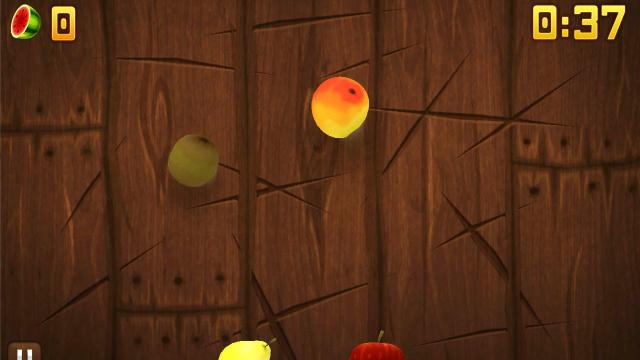fruit: (310, 76, 370, 138), (167, 133, 219, 187), (349, 329, 406, 359), (217, 340, 271, 360)
ignore: (9, 3, 43, 41)
